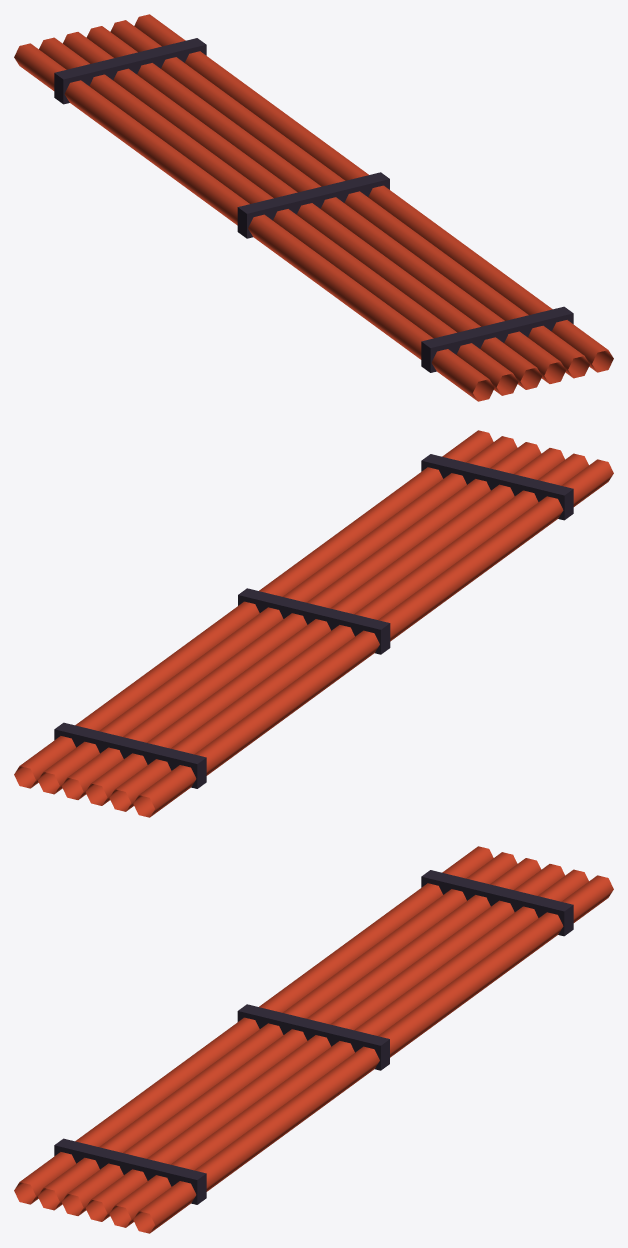
File: Cables6-Straight_100cm_01.fbx
The picture shows the model from 3 angles, top to bottom: view 1: azimuth 30°, elevation 25°; view 2: azimuth 150°, elevation 25°; view 3: azimuth 330°, elevation 25°; orthographic projection.
Parts seen in each view (by area): view 1: Cables6-Straight_100cm_01; view 2: Cables6-Straight_100cm_01; view 3: Cables6-Straight_100cm_01.
Part boxes in pixels (x1,y1,x2,y2): Cables6-Straight_100cm_01: (14, 14, 613, 401); Cables6-Straight_100cm_01: (14, 430, 613, 817); Cables6-Straight_100cm_01: (14, 846, 613, 1233).
Bounding box in the file's own units: 0.18 × 0.03 × 1.
